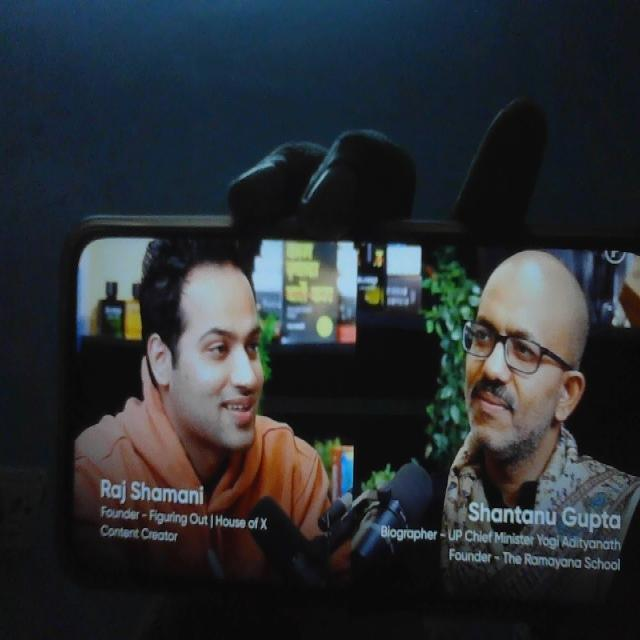fake: (147, 217, 279, 467)
